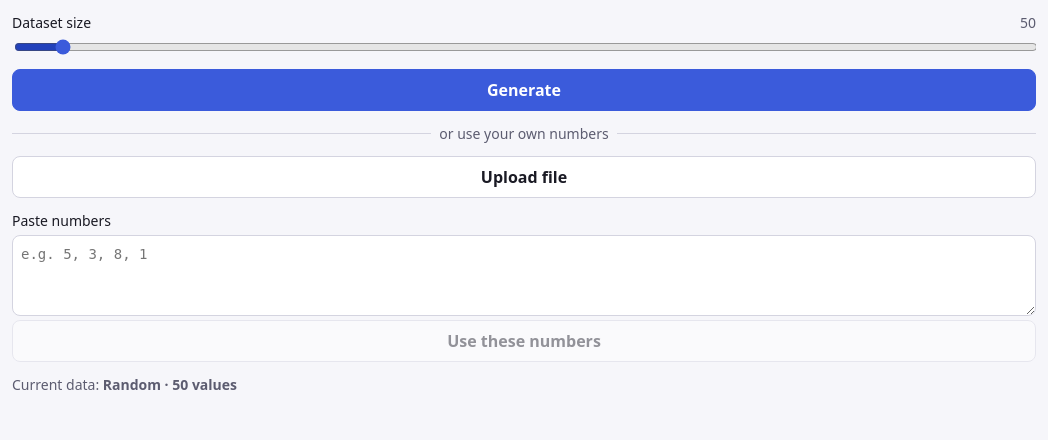
Paste numbers › clears the error after the next successful load
Type "x" into the text box labelled "Paste numbers" at (524, 276), box top-left (12, 235), bottom-right (1036, 316)
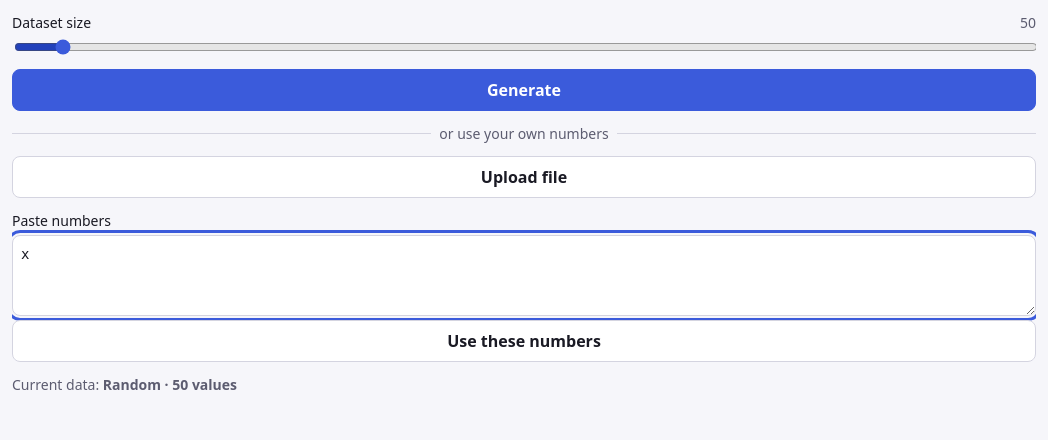
Click the button "Use these numbers" at (524, 341), box top-left (12, 320), bottom-right (1036, 362)
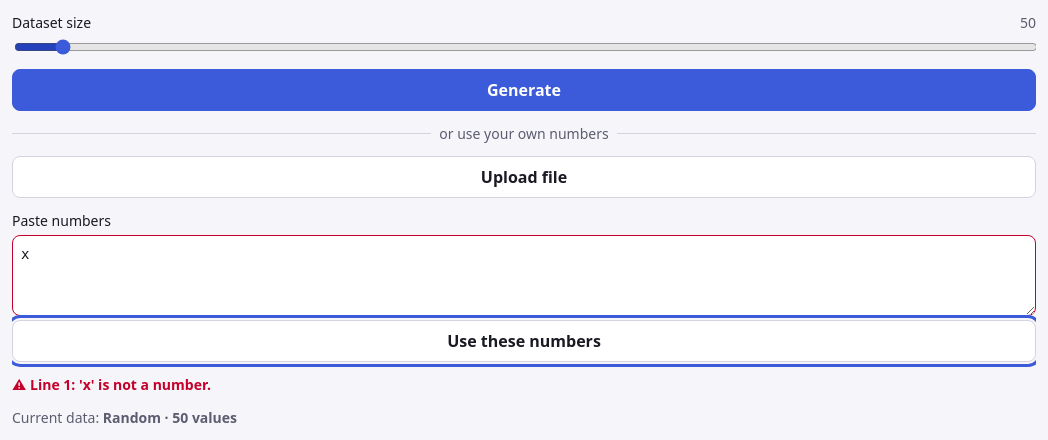
Result: the text "Line 1: 'x' is not a number." is shown at top-left (30, 375), bottom-right (211, 394)
Replace the text in the text box labelled "Paste numbers" with "2 1" at (524, 276), box top-left (12, 235), bottom-right (1036, 316)
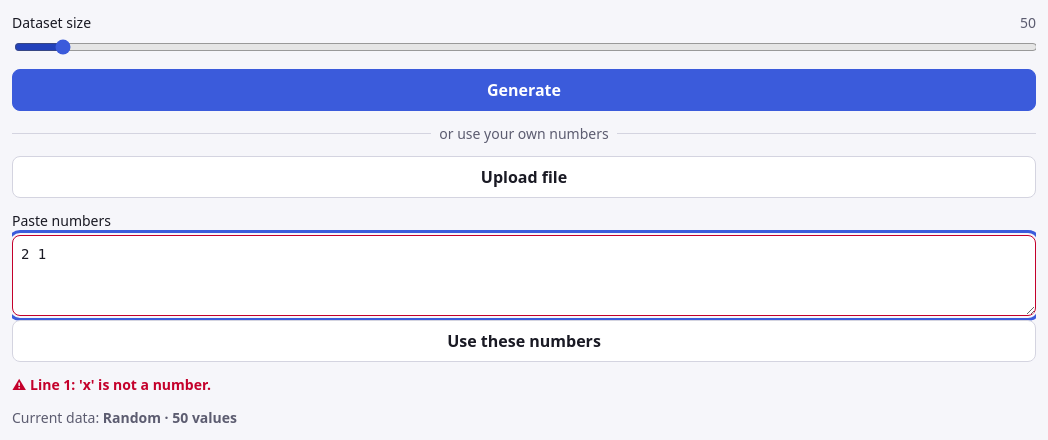
Click the button "Use these numbers" at (524, 341), box top-left (12, 320), bottom-right (1036, 362)
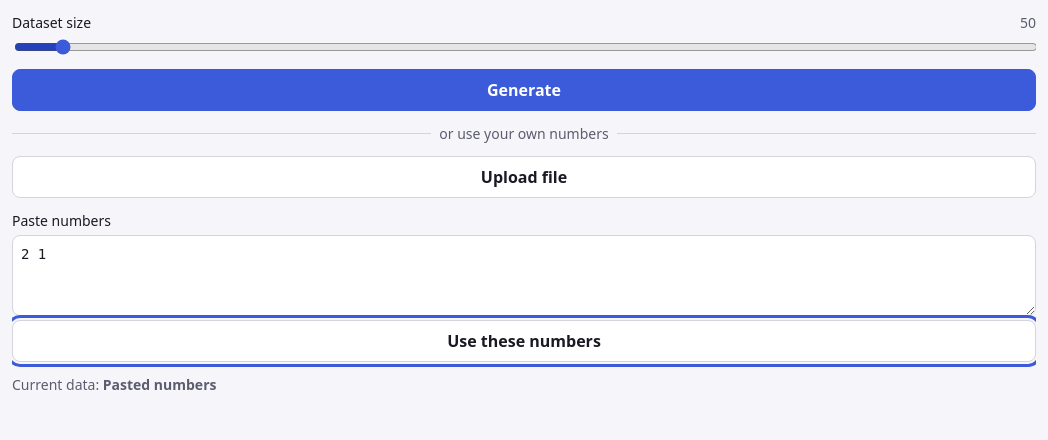
Result: the text "Line 1: 'x' is not a number." is gone
